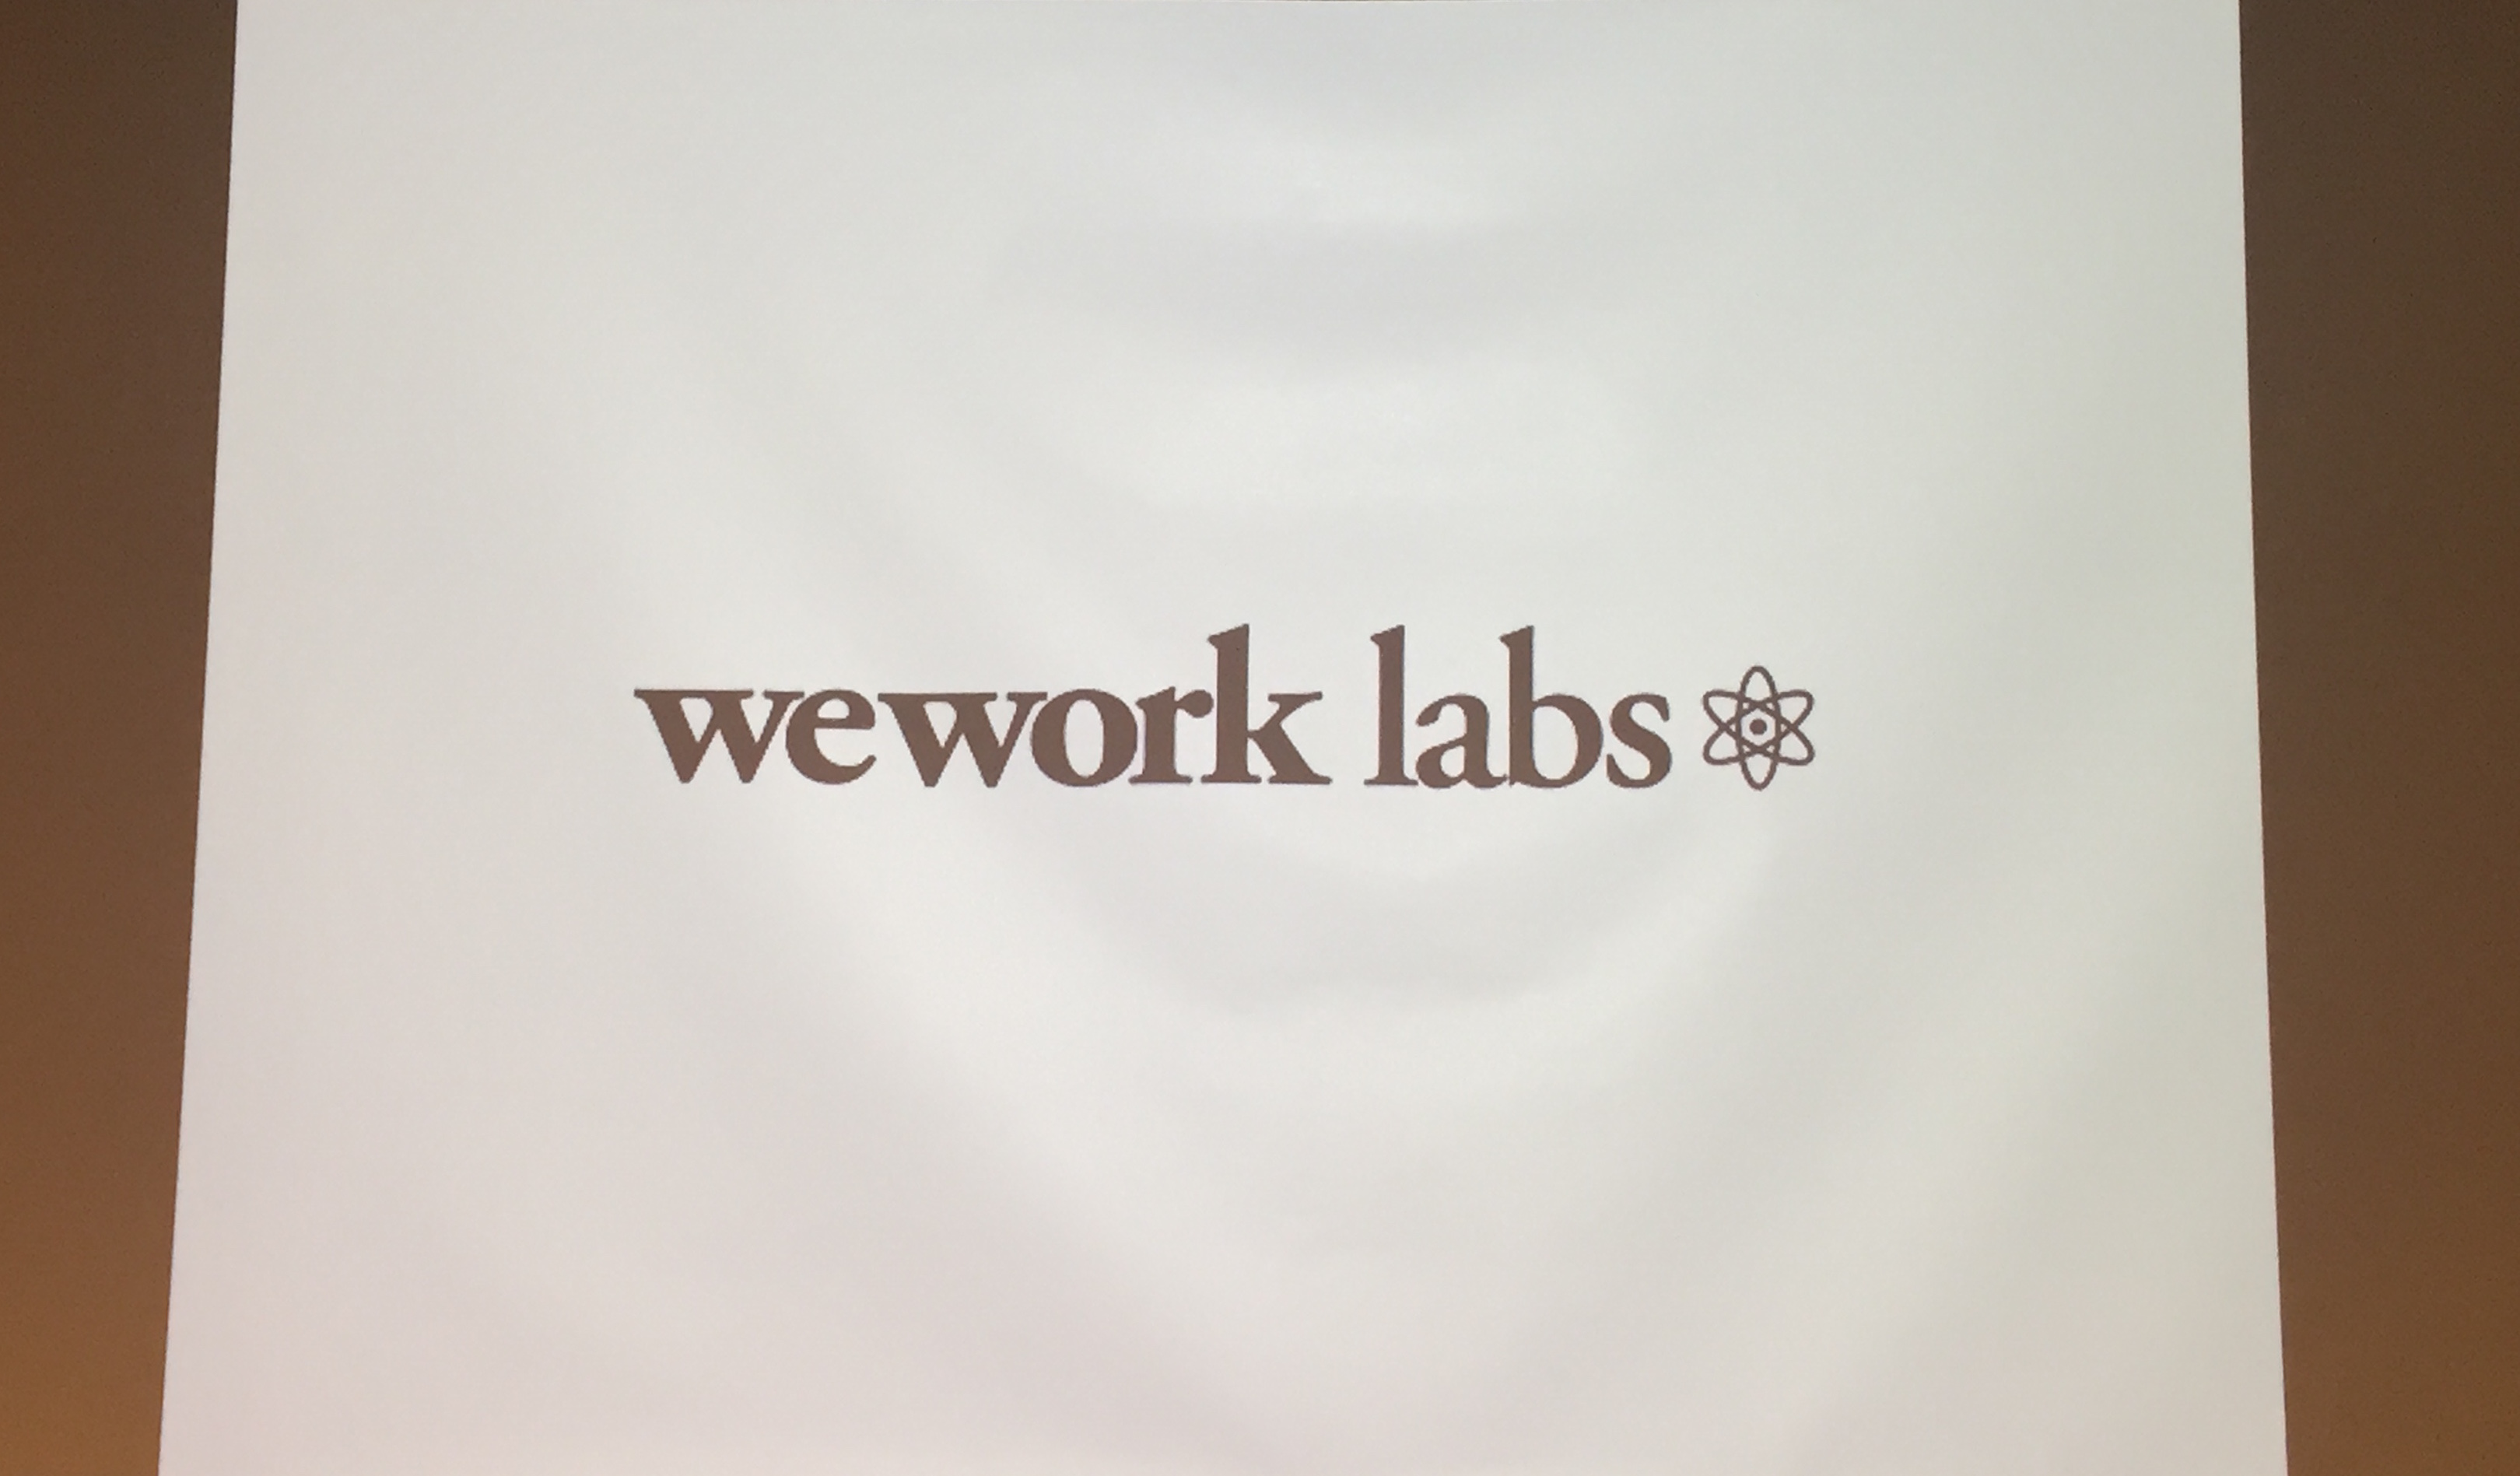wework: (620, 619, 1342, 798)
